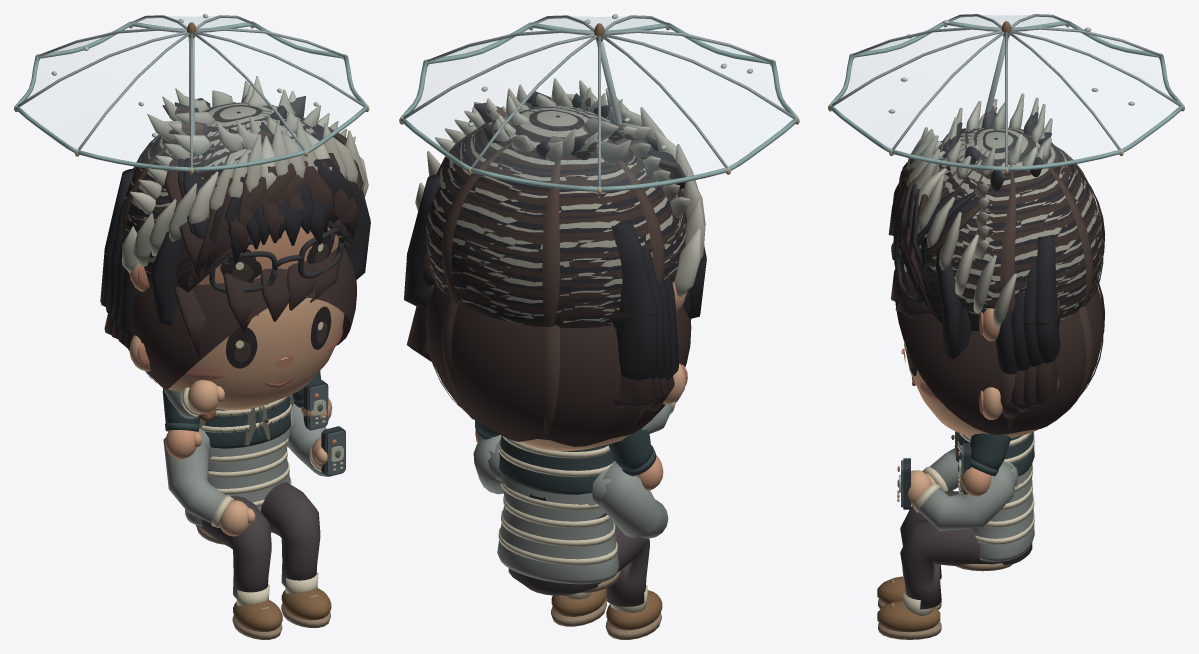
The model's file is people.glb.
3 renders of one model, left to right at view 1: azimuth 30°, elevation 25°; view 2: azimuth 150°, elevation 25°; view 3: azimuth 270°, elevation 25°, orthographic. The views are drawn at different scales.
Parts seen in each view (by area): view 1: PlayerSeated_HeadSurface, Member06_HeadSurface, Member01_HeadSurface, Player_UmbrellaSurface, PlayerSeated_LegLSurface, Member02_HeadSurface, PlayerSeated_LegRSurface, PlayerSeated_BodySurface, Member05_HeadSurface, PlayerSeated_ArmRSurface, Member03_HeadSurface, Player_HeadSurface (+11 smaller); view 2: PlayerSeated_HeadSurface, Member06_HeadSurface, Member01_HeadSurface, PlayerSeated_BodySurface, Player_UmbrellaSurface, Player_HeadSurface, Member03_HeadSurface, Member02_HeadSurface, Member05_HeadSurface, PlayerSeated_LegRSurface, PlayerSeated_ArmRSurface, Member01_BodySurface (+6 smaller); view 3: PlayerSeated_HeadSurface, Member06_HeadSurface, Member01_HeadSurface, Player_UmbrellaSurface, PlayerSeated_LegLSurface, Member03_HeadSurface, Member02_HeadSurface, Player_HeadSurface, PlayerSeated_ArmLSurface, Member05_HeadSurface, PlayerSeated_BodySurface, Member01_ArmLSurface (+7 smaller).
Part boxes in pixels (left/top/right/bottom): PlayerSeated_HeadSurface: left=104, top=247, right=356, bottom=410; Member06_HeadSurface: left=122, top=76, right=368, bottom=292; Member01_HeadSurface: left=100, top=103, right=356, bottom=335; Player_UmbrellaSurface: left=14, top=14, right=369, bottom=421; PlayerSeated_LegLSurface: left=261, top=482, right=331, bottom=627; Member02_HeadSurface: left=110, top=103, right=370, bottom=325; PlayerSeated_LegRSurface: left=197, top=495, right=282, bottom=639; PlayerSeated_BodySurface: left=185, top=428, right=291, bottom=526; Member05_HeadSurface: left=108, top=103, right=357, bottom=291; PlayerSeated_ArmRSurface: left=163, top=428, right=255, bottom=536; Member03_HeadSurface: left=124, top=95, right=363, bottom=286; Player_HeadSurface: left=104, top=102, right=331, bottom=282; PlayerSeated_HeadSurface: left=406, top=283, right=691, bottom=450; Member06_HeadSurface: left=415, top=78, right=705, bottom=325; Member01_HeadSurface: left=404, top=105, right=690, bottom=380; PlayerSeated_BodySurface: left=497, top=471, right=618, bottom=595; Player_UmbrellaSurface: left=399, top=14, right=799, bottom=194; Player_HeadSurface: left=406, top=113, right=685, bottom=327; Member03_HeadSurface: left=426, top=97, right=685, bottom=327; Member02_HeadSurface: left=419, top=106, right=706, bottom=332; Member05_HeadSurface: left=410, top=107, right=685, bottom=328; PlayerSeated_LegRSurface: left=605, top=523, right=662, bottom=639; PlayerSeated_ArmRSurface: left=592, top=461, right=668, bottom=538; Member01_BodySurface: left=499, top=435, right=614, bottom=501; PlayerSeated_HeadSurface: left=891, top=260, right=1104, bottom=437; Member06_HeadSurface: left=891, top=93, right=1103, bottom=327; Member01_HeadSurface: left=899, top=128, right=1102, bottom=374; Player_UmbrellaSurface: left=828, top=14, right=1184, bottom=173; PlayerSeated_LegLSurface: left=877, top=519, right=995, bottom=639; Member03_HeadSurface: left=899, top=105, right=1102, bottom=328; Member02_HeadSurface: left=891, top=128, right=1102, bottom=358; Player_HeadSurface: left=892, top=126, right=1105, bottom=324; PlayerSeated_ArmLSurface: left=907, top=461, right=1018, bottom=530; Member05_HeadSurface: left=899, top=127, right=1102, bottom=331; PlayerSeated_BodySurface: left=958, top=463, right=1034, bottom=564; Member01_ArmLSurface: left=960, top=433, right=1011, bottom=496.
Size of the model in its own units: 1.11 by 1.96 by 1.1.
